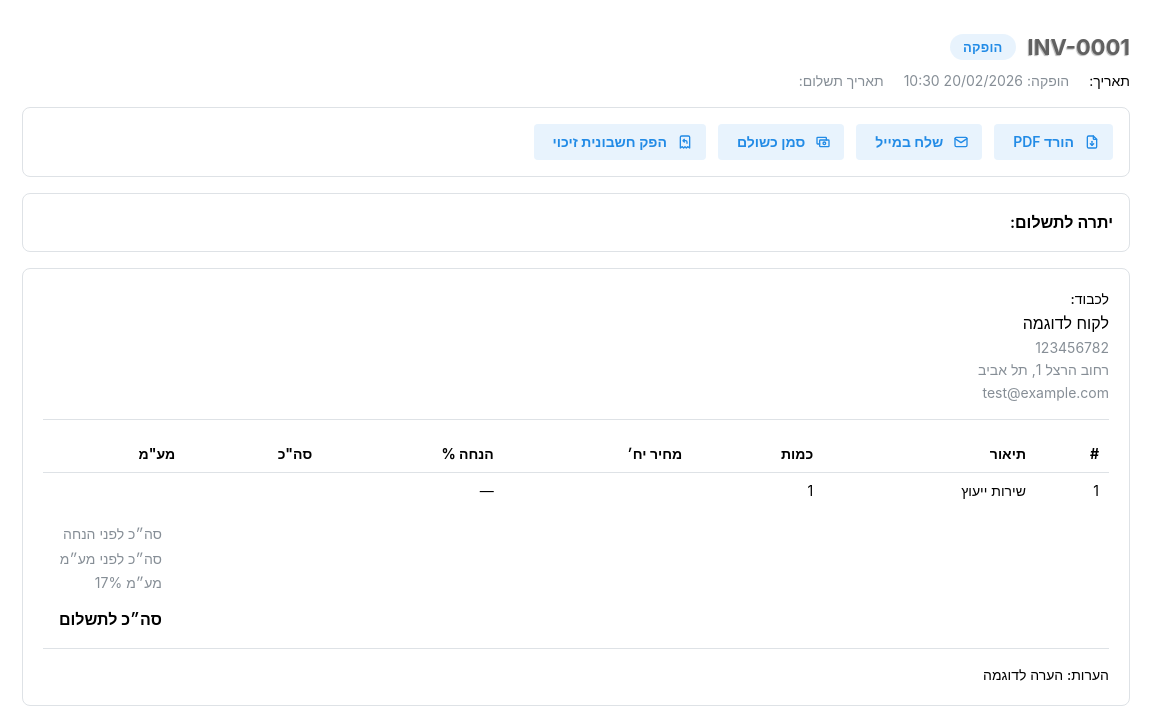
Scenario: InvoiceDetail › credit notes › disables submit when all items removed
What coordinates should you click on to do the following:
click the button "הפק חשבונית זיכוי"
I would click on:
 (620, 142)
Its box is [534,124,706,160].
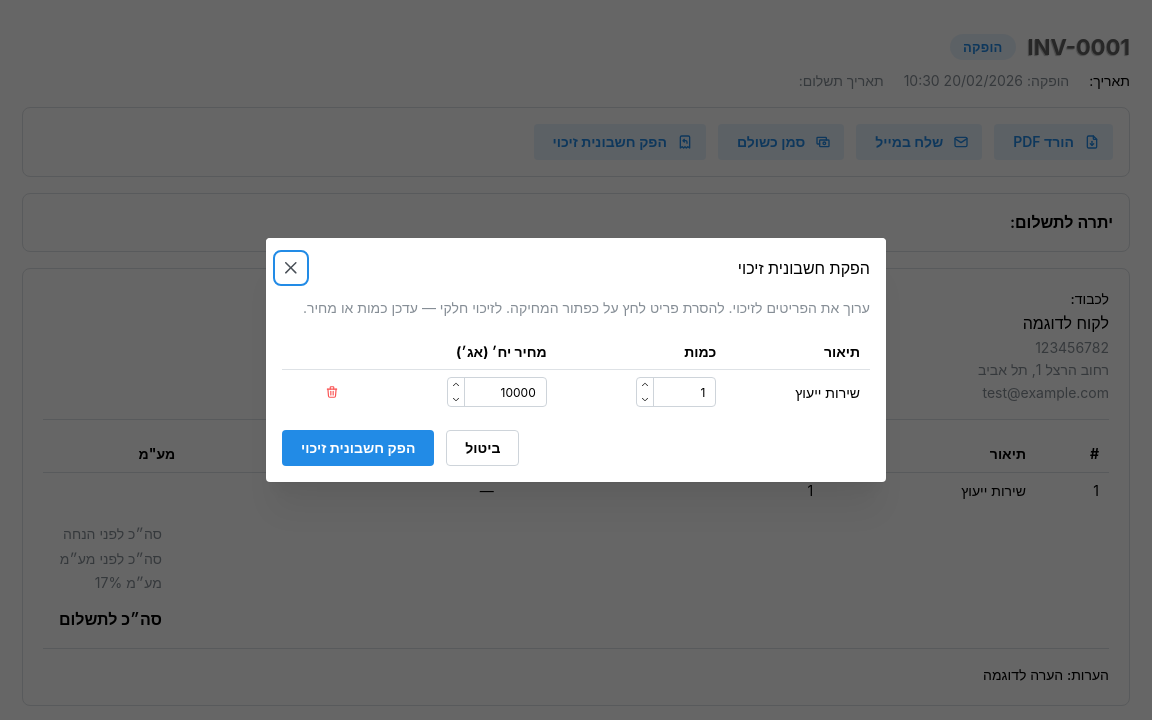
Result: the heading "הפקת חשבונית זיכוי" is shown at [738,260,870,276]
# Remove the item
What coordinates should you click on to do the following:
click the button with test id "credit-note-remove-0"
I would click on:
 (332, 392)
Its box is [321,381,343,403].
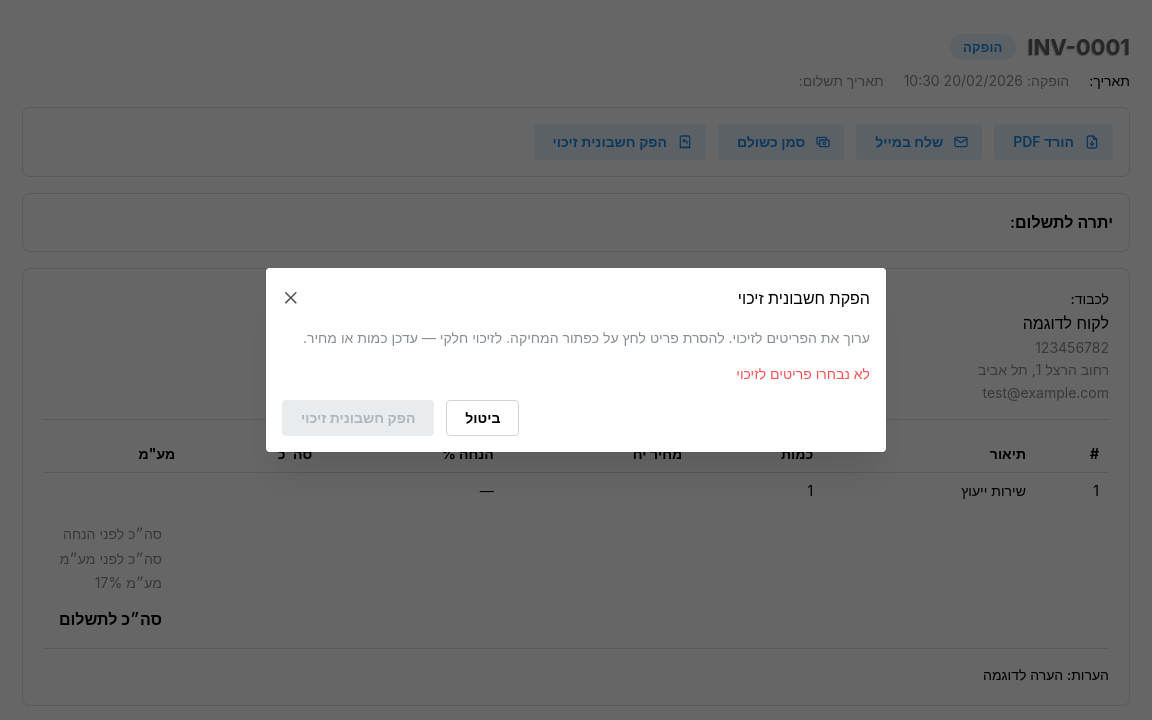
Result: the button with test id "credit-note-submit" is disabled at [282,400,434,436]
Result: the text "לא נבחרו פריטים לזיכוי" is shown at [736,365,870,382]
